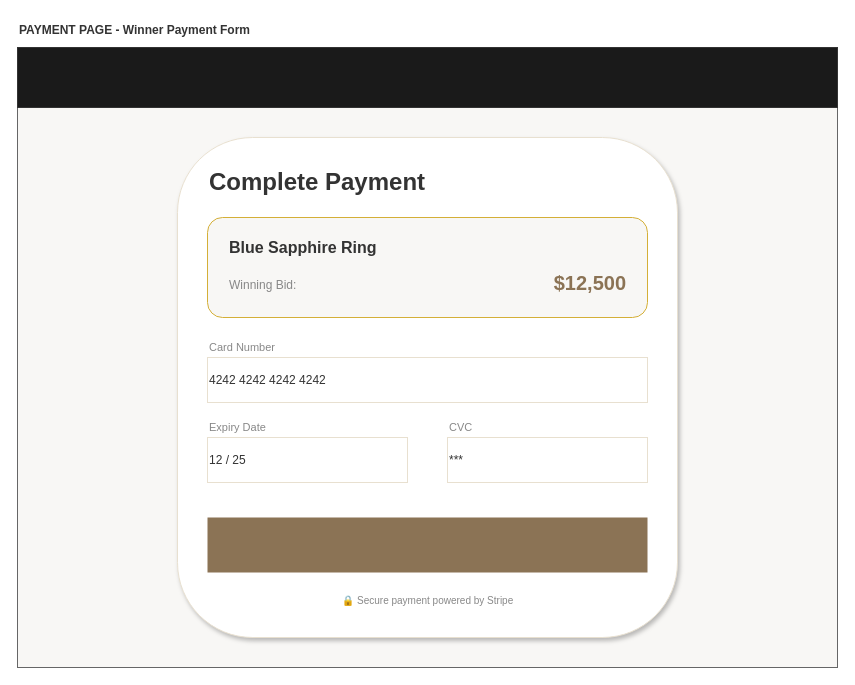
The diagram is 855 pixels wide and 685 high, and some of its shapes have lost their labels. Each missing label, with the centre of its shape:
"LUXBID Reserve" belongs at (x=427, y=77).
"Pay $12,500 →" belongs at (x=427, y=544).
